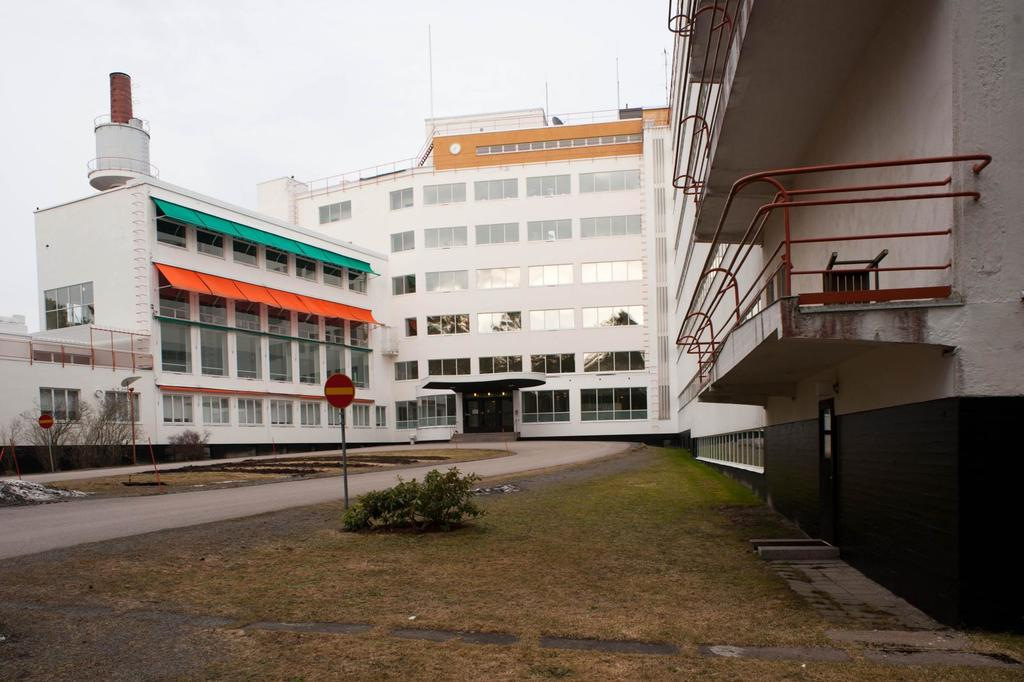Window: (42, 281, 97, 331), (578, 206, 645, 240), (38, 385, 85, 424), (582, 259, 643, 282), (579, 170, 640, 191), (582, 350, 643, 370), (104, 391, 141, 423), (582, 307, 644, 326), (474, 267, 522, 290), (152, 218, 188, 248), (529, 264, 575, 287), (476, 223, 519, 246), (530, 309, 576, 330), (531, 353, 573, 376), (161, 395, 194, 424), (474, 176, 515, 199), (477, 311, 521, 332), (424, 226, 465, 248), (529, 220, 570, 242), (199, 396, 229, 426), (525, 175, 570, 195), (425, 270, 467, 291), (426, 314, 468, 335), (422, 182, 465, 202), (194, 231, 224, 259), (316, 200, 351, 223), (426, 357, 470, 375), (269, 398, 296, 427), (239, 398, 265, 427), (232, 242, 260, 268), (480, 355, 522, 371), (388, 185, 414, 210), (390, 273, 417, 295), (294, 257, 317, 282), (300, 403, 323, 427), (390, 231, 414, 254), (395, 359, 420, 381), (351, 405, 374, 428), (266, 250, 287, 275), (326, 403, 342, 428), (349, 272, 366, 295), (324, 265, 342, 286), (406, 315, 421, 337), (374, 406, 387, 428)
